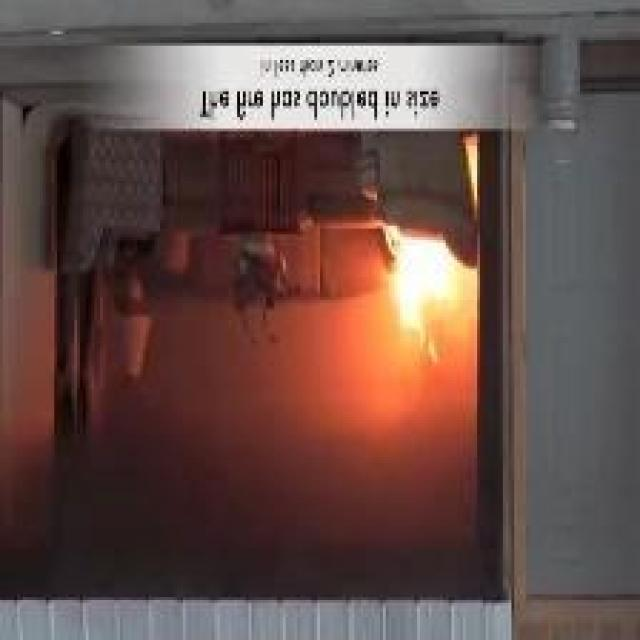fire: (358, 251, 482, 426)
